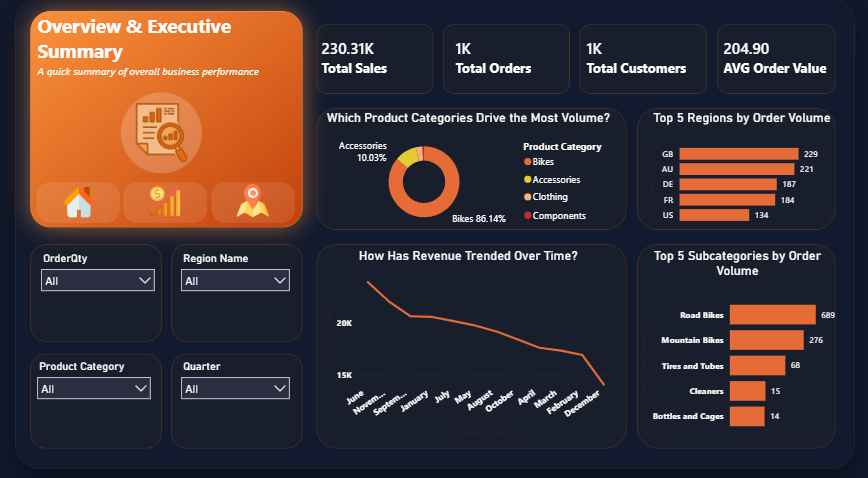

What the dashboard file says about the page in this screenshot:
{"tool":"powerbi","page":{"name":"Page 1","canvas":[1280,720],"ordinal":1},"visuals":[{"type":"image","box":[0,216.9,270.7,109.1],"z":0},{"type":"image","box":[123.3,216.9,270.7,109.1],"z":1000},{"type":"image","box":[246.6,216.9,270.7,109.1],"z":2000},{"type":"textbox","box":[66.6,21.3,374.2,121.9],"z":3000},{"type":"image","box":[123.3,110.6,259.4,134.6],"z":4000},{"type":"image","box":[211.2,154.5,83.6,62.4],"z":5000},{"type":"image","box":[78,250.9,116.2,42.5],"z":6000},{"type":"image","box":[200,254.3,117.1,44.3],"z":7000},{"type":"cardVisual","fields":{"Data":["All Measures.Total Sales"]},"box":[450.7,24.1,223.9,107.7],"z":8000},{"type":"cardVisual","fields":{"Data":["All Measures.Total Orders"]},"box":[615.1,24.1,223.9,107.7],"z":9000},{"type":"cardVisual","fields":{"Data":["All Measures.Total Customers"]},"box":[799.4,24.1,223.9,107.7],"z":10000},{"type":"cardVisual","fields":{"Data":["All Measures.Average Order Value"]},"box":[1000.6,24.1,223.9,107.7],"z":11000},{"type":"slicer","fields":{"Values":["Fact_Sales (2011_2014).OrderQty"]},"box":[72.3,350.1,181.4,129],"z":12000},{"type":"slicer","fields":{"Values":["Dim_regions.Region Name"]},"box":[276.4,350.1,174.3,129],"z":13000},{"type":"slicer","fields":{"Values":["Dim_Products.Product Category"]},"box":[72.3,513.1,181.4,129],"z":14000},{"type":"slicer","fields":{"Values":["Fact_Sales (2011_2014).OrderDate.Variation.Date Hierarchy.Quarter"]},"box":[276.4,513.1,174.3,129],"z":15000},{"type":"lineChart","title":"How Has Revenue Trended Over Time?","fields":{"Y":["Sum(Fact_Sales (2011_2014).LineTotal)"],"Category":["Fact_Sales (2011_2014).OrderMonthName"]},"box":[478.7,349.4,418.3,292.3],"z":16000},{"type":"donutChart","title":"Which Product Categories Drive the Most Volume?","fields":{"Category":["Dim_Products.Product Category"],"Y":["Sum(Fact_Sales (2011_2014).OrderQty)"]},"box":[478.7,154.5,418.3,171.3],"z":17000},{"type":"barChart","title":"Top 5 Regions by Order Volume","fields":{"Category":["Dim_regions.CountryRegionCode"],"Y":["Count(Fact_Sales (2011_2014).SalesOrderID)"]},"box":[925.6,154.5,299,171.3],"z":18000},{"type":"clusteredBarChart","title":"Top 5 Subcategories by Order Volume","fields":{"Category":["Dim_Products.Product Subcategory","Dim_Products.Product Category"],"Y":["Count(Fact_Sales (2011_2014).SalesOrderID)"]},"box":[925.6,349.4,287.2,292.3],"z":19000},{"type":"image","box":[342.9,251.4,78.6,47.1],"z":20000}]}

Visuals, with their boxes in screenshot pixels (x1, y1, x2, y2), scaled from the page's 1280x720 canvas onto the 868x478 screenshot:
image: pyautogui.locateOnScreen(0, 144, 184, 216)
image: pyautogui.locateOnScreen(84, 144, 267, 216)
image: pyautogui.locateOnScreen(167, 144, 351, 216)
textbox: pyautogui.locateOnScreen(45, 14, 299, 95)
image: pyautogui.locateOnScreen(84, 73, 260, 163)
image: pyautogui.locateOnScreen(143, 103, 200, 144)
image: pyautogui.locateOnScreen(53, 167, 132, 195)
image: pyautogui.locateOnScreen(136, 169, 215, 198)
cardVisual - All Measures.Total Sales: pyautogui.locateOnScreen(306, 16, 457, 88)
cardVisual - All Measures.Total Orders: pyautogui.locateOnScreen(417, 16, 569, 88)
cardVisual - All Measures.Total Customers: pyautogui.locateOnScreen(542, 16, 694, 88)
cardVisual - All Measures.Average Order Value: pyautogui.locateOnScreen(679, 16, 830, 88)
slicer - Fact_Sales (2011_2014).OrderQty: pyautogui.locateOnScreen(49, 232, 172, 318)
slicer - Dim_regions.Region Name: pyautogui.locateOnScreen(187, 232, 306, 318)
slicer - Dim_Products.Product Category: pyautogui.locateOnScreen(49, 341, 172, 426)
slicer - Fact_Sales (2011_2014).OrderDate.Variation.Date Hierarchy.Quarter: pyautogui.locateOnScreen(187, 341, 306, 426)
"How Has Revenue Trended Over Time?" lineChart: pyautogui.locateOnScreen(325, 232, 608, 426)
"Which Product Categories Drive the Most Volume?" donutChart: pyautogui.locateOnScreen(325, 103, 608, 216)
"Top 5 Regions by Order Volume" barChart: pyautogui.locateOnScreen(628, 103, 830, 216)
"Top 5 Subcategories by Order Volume" clusteredBarChart: pyautogui.locateOnScreen(628, 232, 822, 426)
image: pyautogui.locateOnScreen(233, 167, 286, 198)
